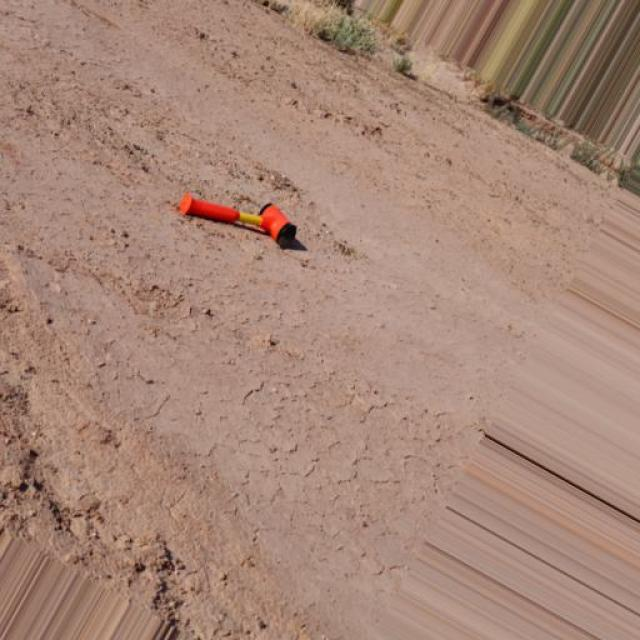mallet: (176, 190, 298, 248)
